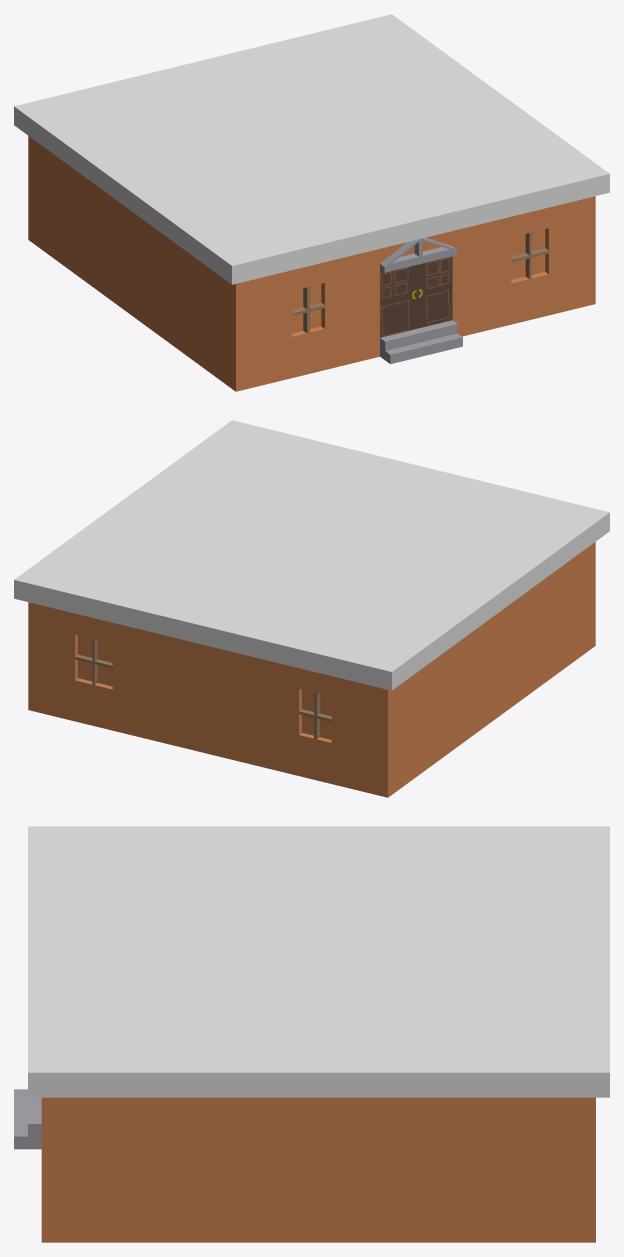
The model's file is building.glb.
3 renders of one model, top to bottom at view 1: azimuth 30°, elevation 25°; view 2: azimuth 150°, elevation 25°; view 3: azimuth 270°, elevation 25°, orthographic. The views are drawn at different scales.
Parts seen in each view (by area): view 1: Cube.001, Cube; view 2: Cube.001, Cube; view 3: Cube.001, Cube.
Boxes of the visible parts, bbox=[...] form: Cube.001: bbox=[14, 14, 609, 284]; Cube: bbox=[28, 136, 595, 391]; Cube.001: bbox=[14, 420, 609, 690]; Cube: bbox=[28, 542, 595, 797]; Cube.001: bbox=[28, 826, 609, 1097]; Cube: bbox=[14, 1089, 595, 1242].
Bounding box in the file's own units: 10.5 × 3.5 × 10.75.
1 material, 1 textured.
